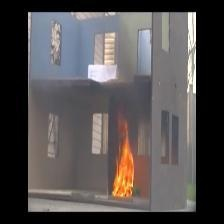fire: (111, 127, 142, 204)
